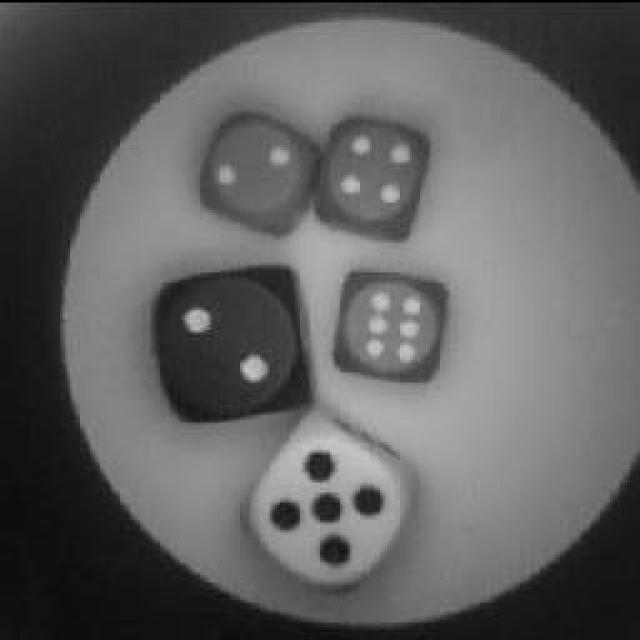dice_2: (148, 257, 310, 425), (198, 110, 322, 235)
dice_4: (307, 110, 435, 238)
dice_5: (238, 400, 430, 595)
dice_6: (325, 258, 455, 388)
